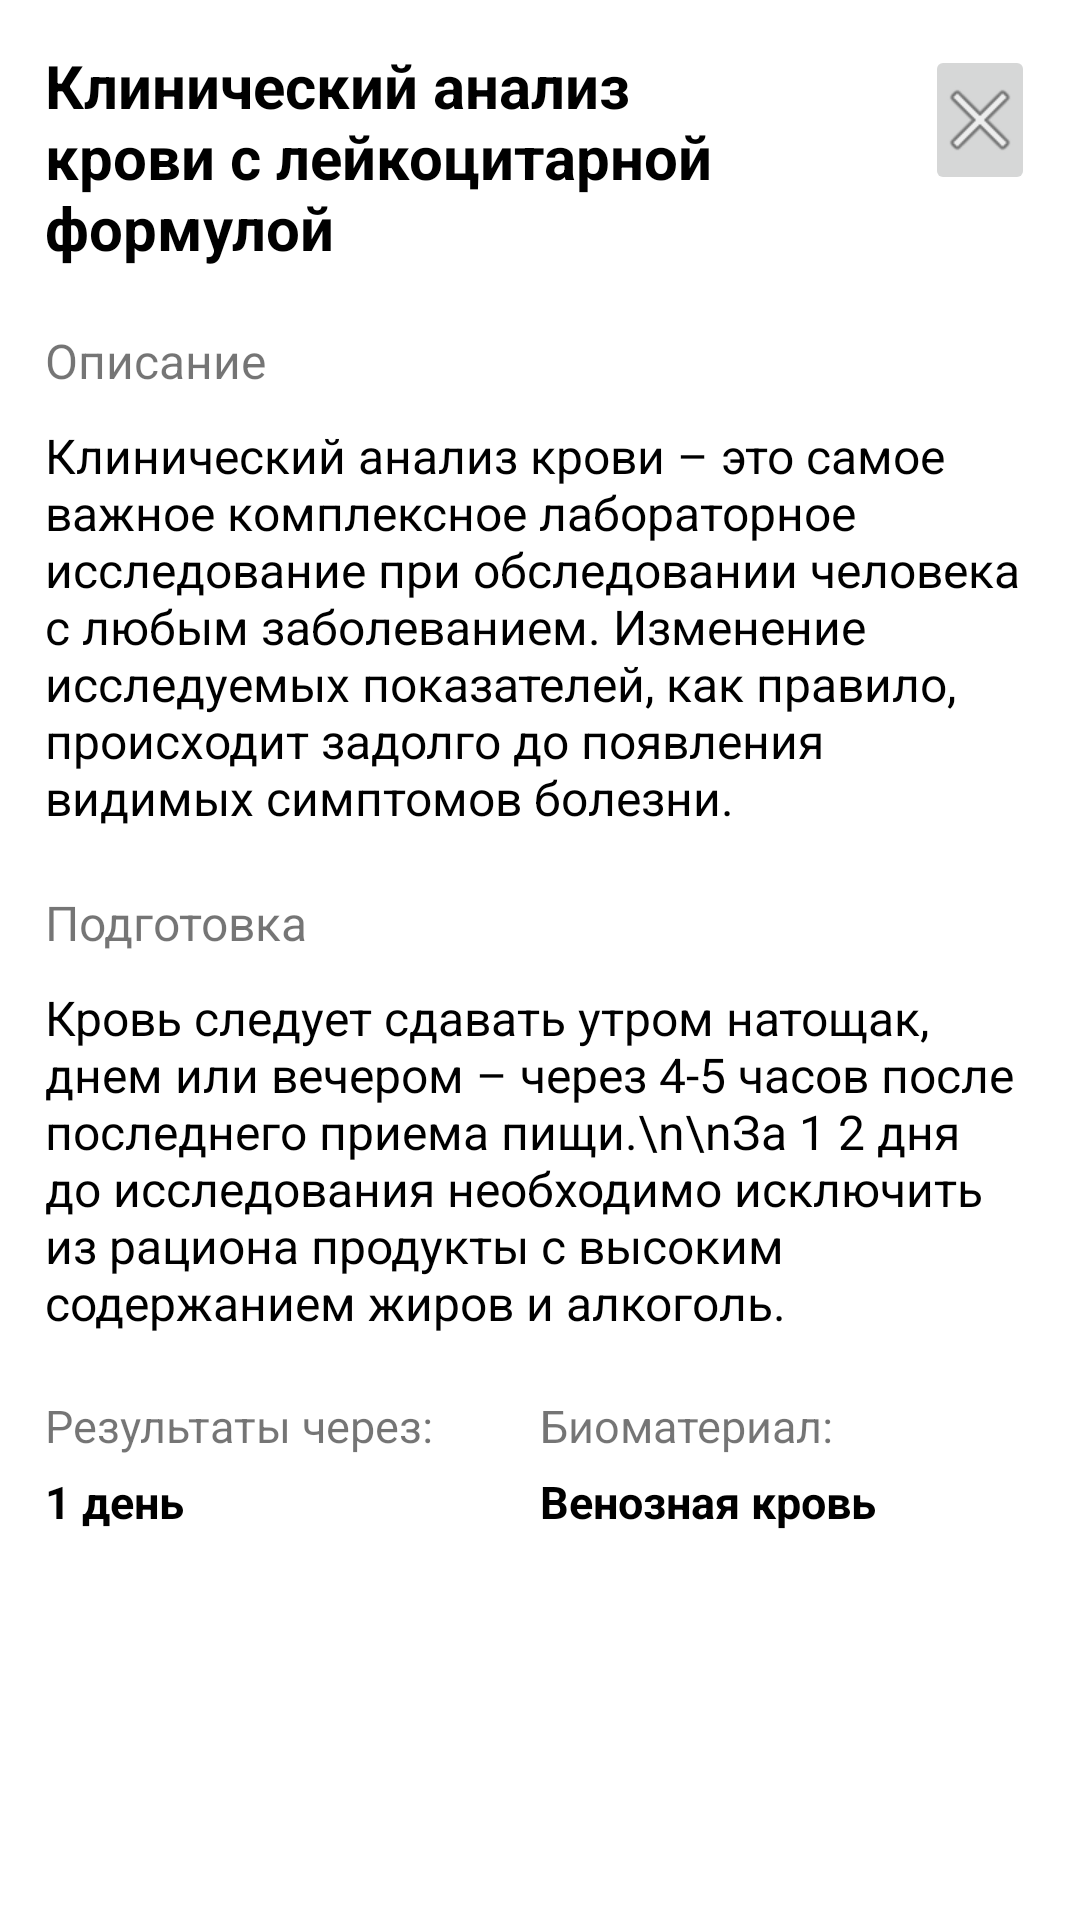

Locate icon controls on the screen. Image size 1080 × 1920, boxes as [x1,y1,x2,y2].
close clear cancel: [937,63,1023,177]
